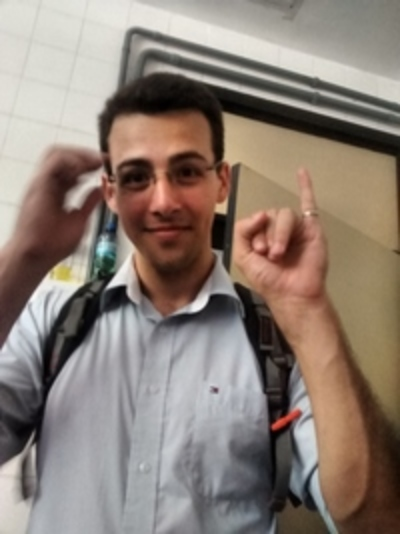closedhandfront: (225, 203, 329, 296)
mindinho: (292, 161, 332, 226)
